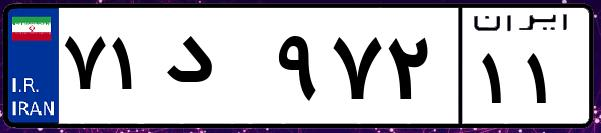1: (475, 38, 525, 113), (525, 38, 570, 115), (110, 28, 158, 98)
2: (385, 28, 445, 110)
7: (330, 28, 385, 110), (57, 26, 110, 100)
9: (270, 28, 330, 110)
د: (158, 20, 270, 120)
